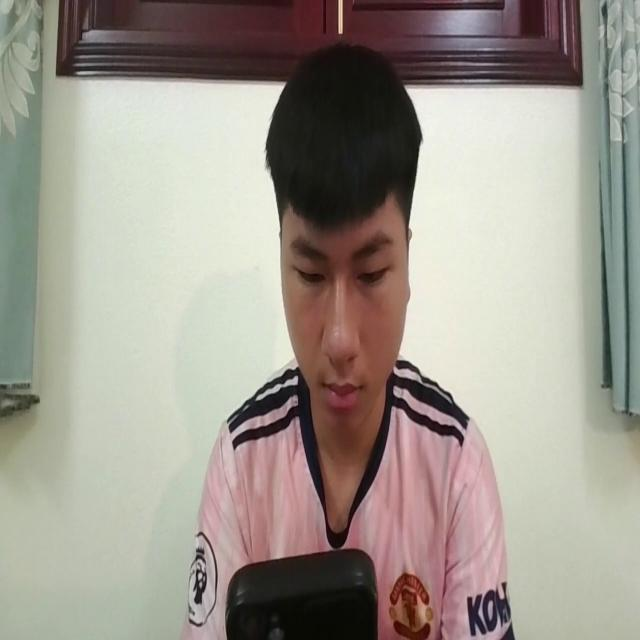phone: (223, 538, 379, 640)
student: (184, 37, 517, 640)
